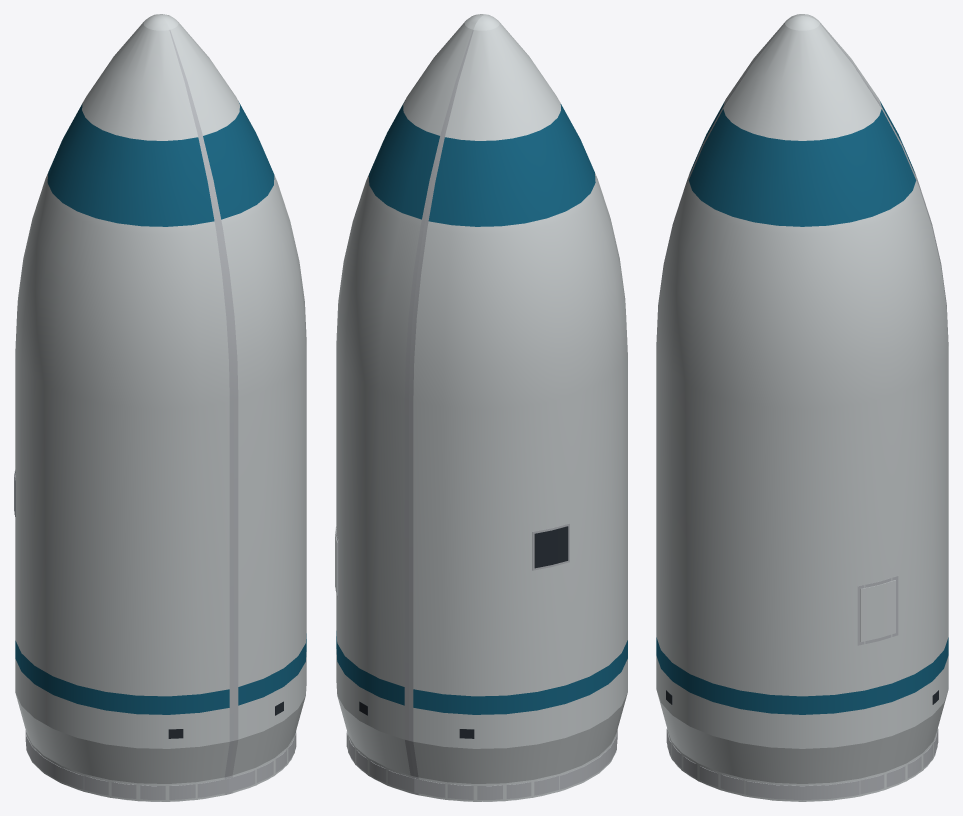
File: fairing_standard.glb
The picture shows the model from 3 angles, left to right: view 1: azimuth 30°, elevation 25°; view 2: azimuth 150°, elevation 25°; view 3: azimuth 270°, elevation 25°; orthographic projection.
Parts seen in each view (by area): view 1: fairing_standard_half_b_mesh, fairing_standard_half_a_mesh; view 2: fairing_standard_half_b_mesh, fairing_standard_half_a_mesh; view 3: fairing_standard_half_a_mesh, fairing_standard_half_b_mesh.
Boxes of the visible parts, x1,y1,x2,y2 form: fairing_standard_half_b_mesh: (14, 14, 233, 801); fairing_standard_half_a_mesh: (156, 14, 306, 794); fairing_standard_half_b_mesh: (409, 14, 627, 801); fairing_standard_half_a_mesh: (335, 14, 484, 794); fairing_standard_half_a_mesh: (656, 16, 948, 801); fairing_standard_half_b_mesh: (658, 14, 946, 728).
Size of the model in its own units: 4 by 11 by 4.
